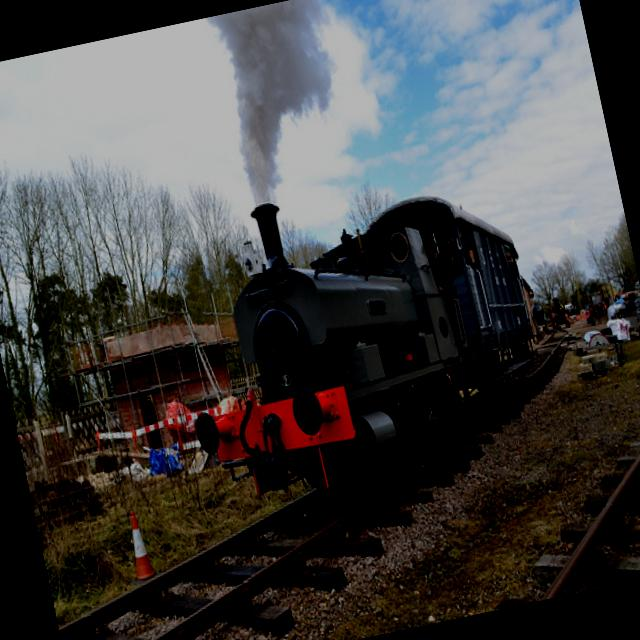Vehicle: (606, 298, 628, 318), (600, 326, 616, 347), (564, 302, 575, 314)
